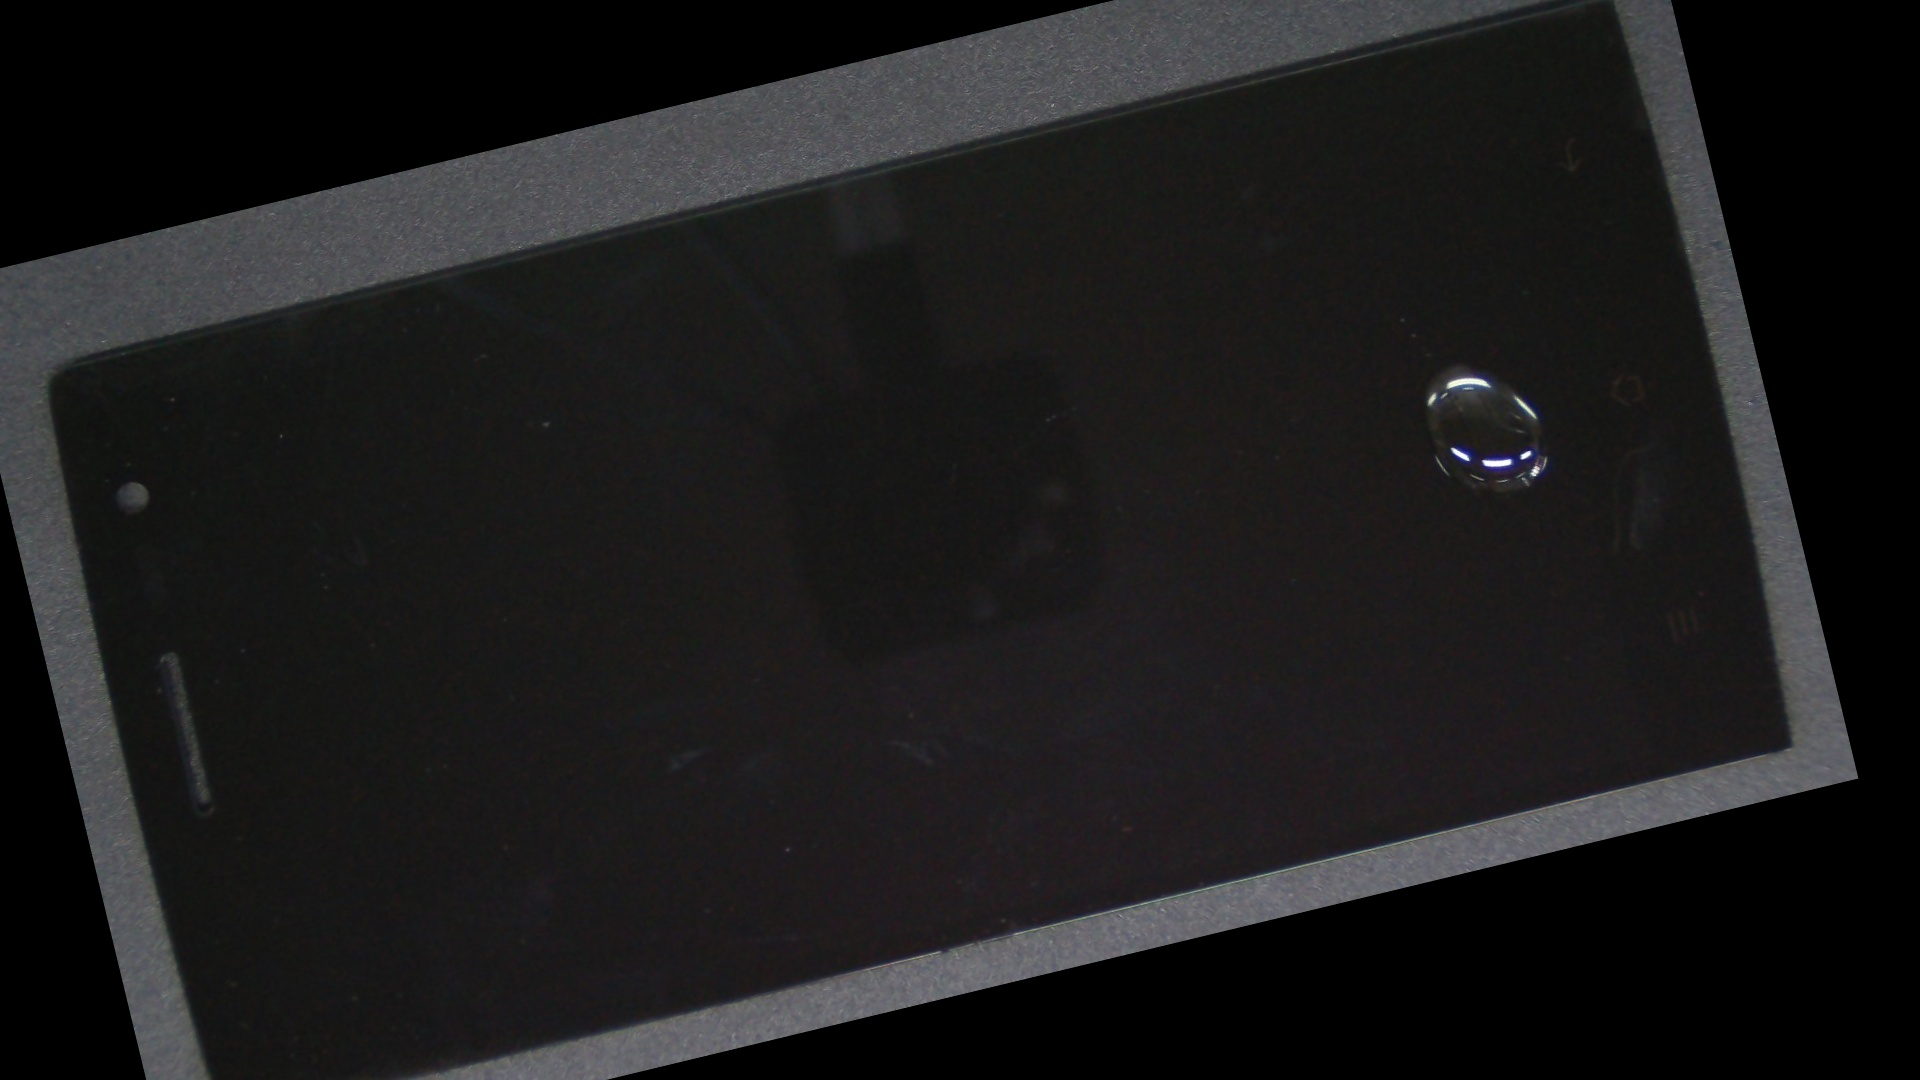oil: (702, 84, 1793, 748)
